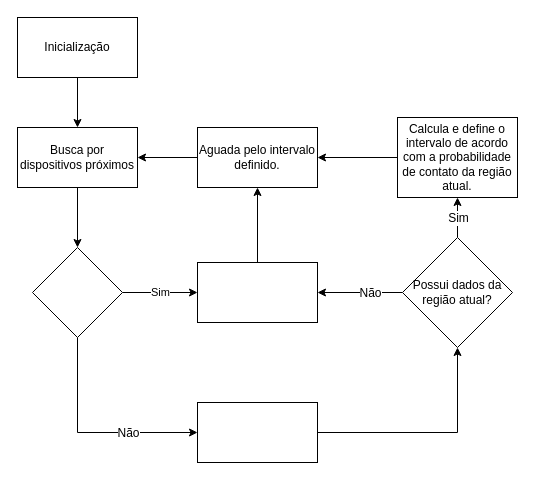
The diagram is 535 pixels wide and 480 high, and some of its shapes have lost their labels. Each missing label, with the box of its shape:
Define intervalo de busca igual a 32 segundos.: (196, 262, 318, 322)
Em warmup?: (32, 246, 122, 338)
Obtém a região atual.: (196, 402, 318, 462)
